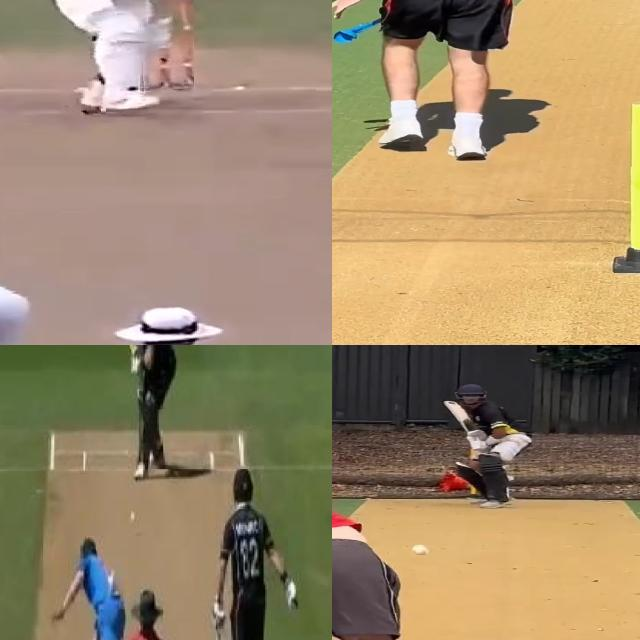Cricket ball: (76, 99, 106, 117), (128, 510, 141, 526), (411, 545, 430, 555)
Stumps: (609, 96, 640, 273), (138, 0, 194, 92)
